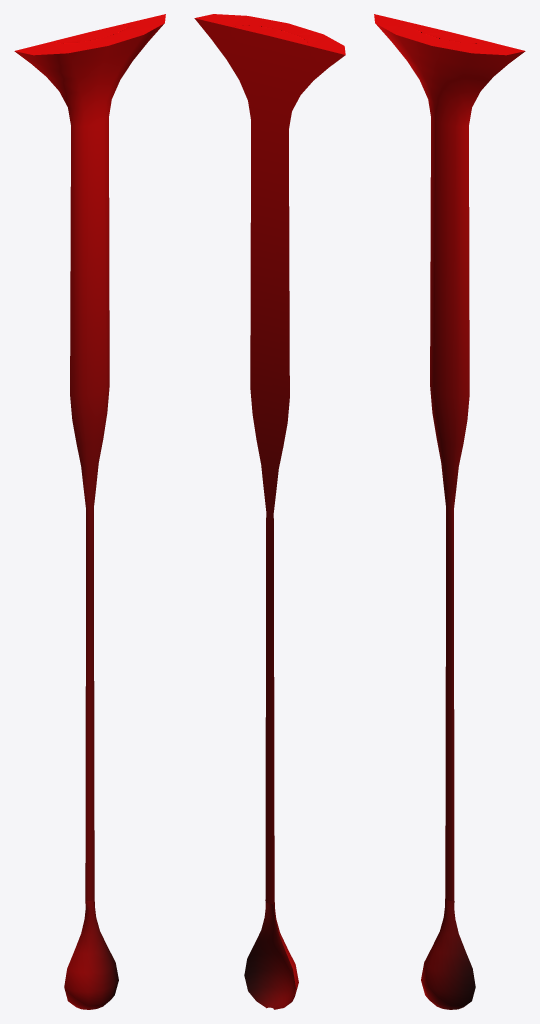
The model's file is Blood_001.FBX.
3 renders of one model, left to right at view 1: azimuth 30°, elevation 25°; view 2: azimuth 150°, elevation 25°; view 3: azimuth 330°, elevation 25°, orthographic.
Parts seen in each view (by area): view 1: Blood_001; view 2: Blood_001; view 3: Blood_001.
Part boxes in pixels (<box>): Blood_001: <box>14,14,165,1009</box>; Blood_001: <box>194,14,345,1009</box>; Blood_001: <box>374,14,525,1009</box>.
Size of the model in its own units: 18.48 by 113 by 3.86.
1 material, 1 textured.
